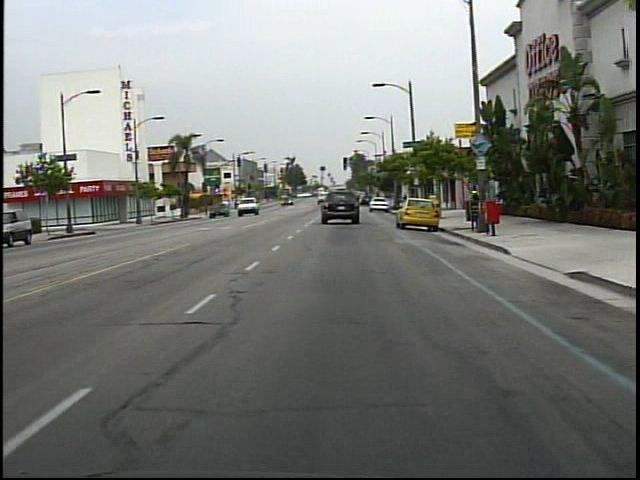person: (465, 184, 486, 222)
